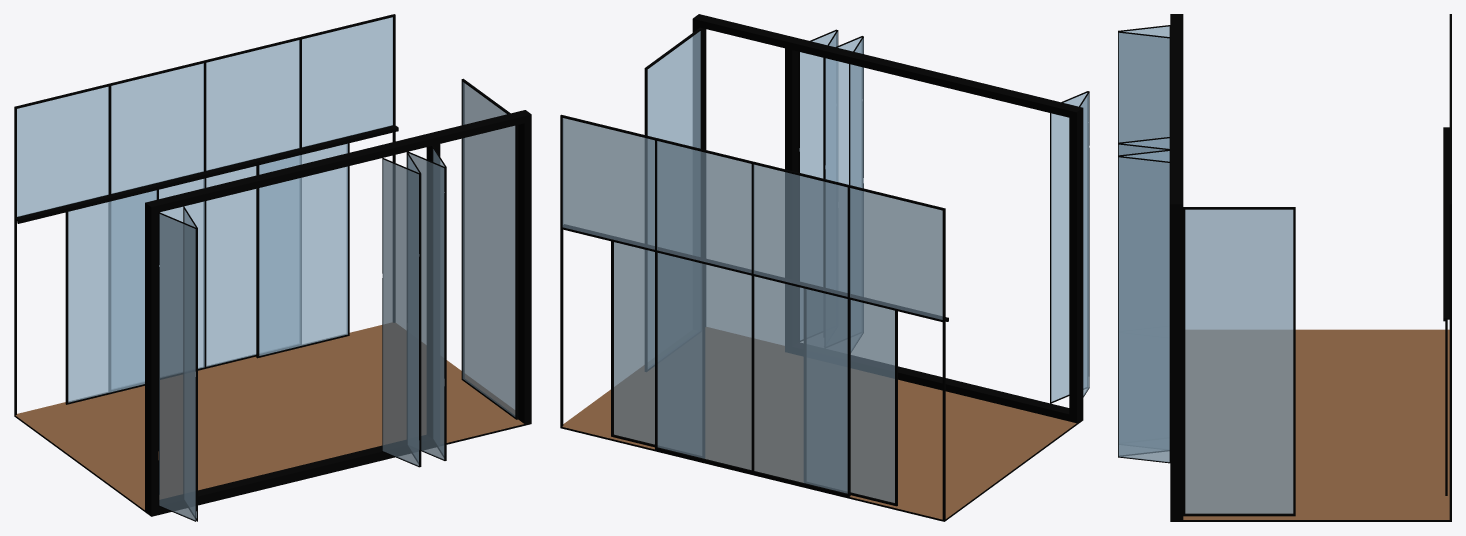
The model's file is frontPorch.glb.
3 views of the same model, side by side, from view 1: azimuth 30°, elevation 25°; view 2: azimuth 150°, elevation 25°; view 3: azimuth 270°, elevation 25° (orthographic). The views are drawn at different scales.
Visible parts, largest first — view 1: porch.002; view 2: porch.002; view 3: porch.002.
Part boxes in pixels (left/top/right/bottom): porch.002: left=14, top=14, right=531, bottom=521; porch.002: left=560, top=14, right=1089, bottom=521; porch.002: left=1118, top=14, right=1451, bottom=521.
Bounding box in the file's own units: 19.99 × 15.54 × 14.81.
